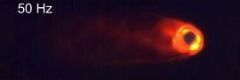keyhole: (182, 30, 199, 46)
